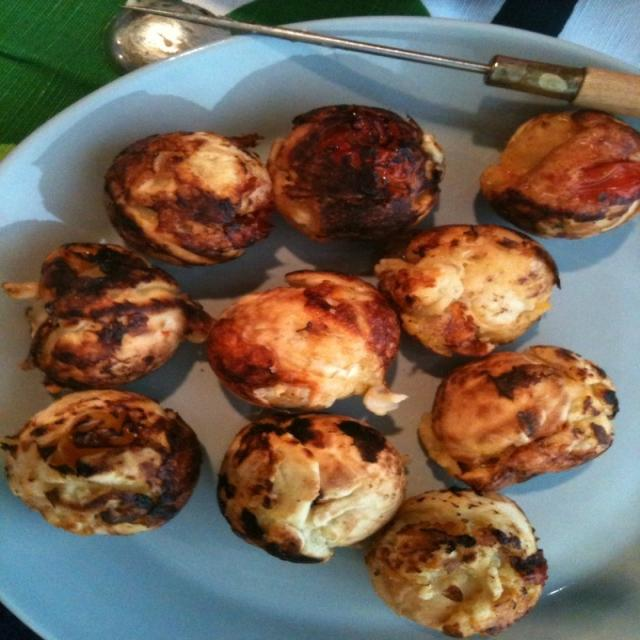炸货点心: (0, 8, 630, 630)
